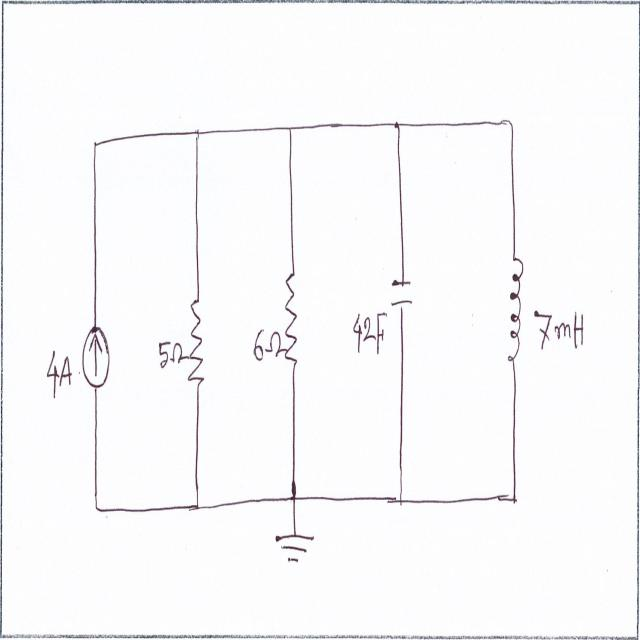capacitor: (386, 270, 416, 313)
current_source: (79, 326, 112, 400)
ground: (272, 523, 318, 571)
inductor: (505, 252, 530, 383)
resistor: (188, 291, 210, 392), (283, 265, 302, 367)
